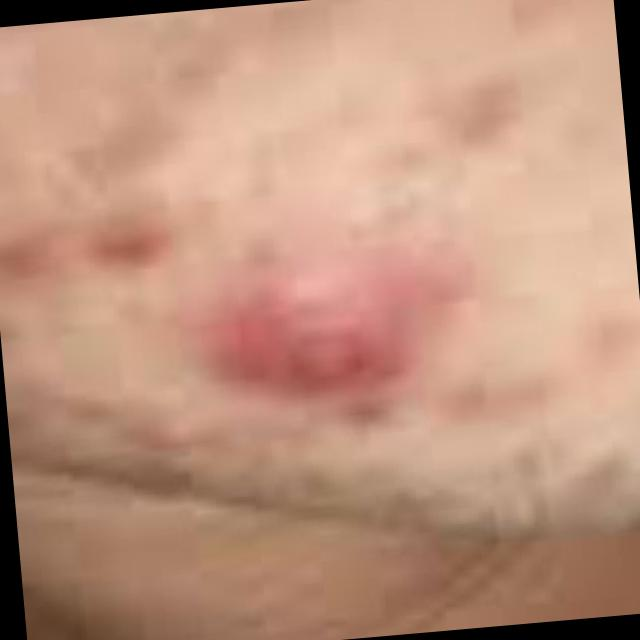nodule: (269, 254, 418, 385)
